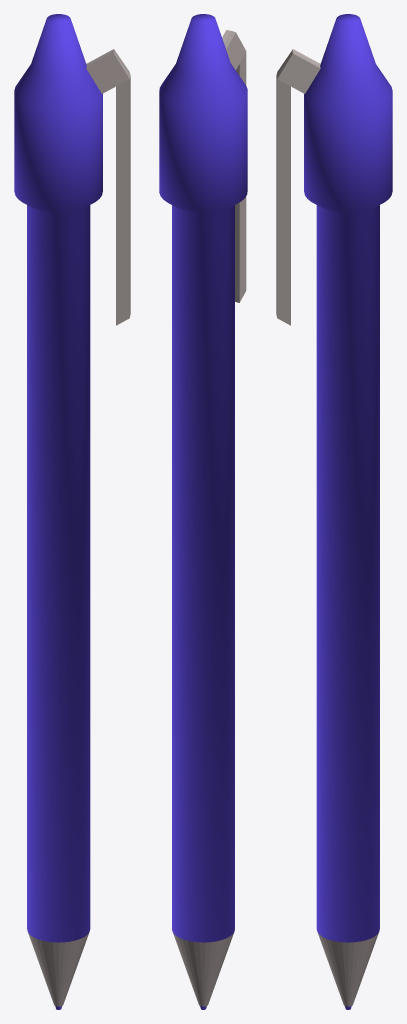
File: PenBlue.fbx
3 renders of one model, left to right at view 1: azimuth 90°, elevation 25°; view 2: azimuth 150°, elevation 25°; view 3: azimuth 270°, elevation 25°, orthographic.
Parts seen in each view (by area): view 1: PenBlue, Pencil.002, Pencil.003; view 2: PenBlue, Pencil.003, Pencil.002; view 3: PenBlue, Pencil.002, Pencil.003.
Part boxes in pixels (bbox=[...]): PenBlue: bbox=[14, 14, 102, 942]; Pencil.002: bbox=[86, 49, 130, 325]; Pencil.003: bbox=[28, 932, 89, 1006]; PenBlue: bbox=[159, 14, 247, 942]; Pencil.003: bbox=[173, 932, 234, 1006]; Pencil.002: bbox=[222, 30, 246, 302]; PenBlue: bbox=[304, 14, 392, 942]; Pencil.002: bbox=[276, 49, 320, 325]; Pencil.003: bbox=[317, 932, 378, 1006].
Size of the model in its own units: 19.27 by 238 by 25.3.
